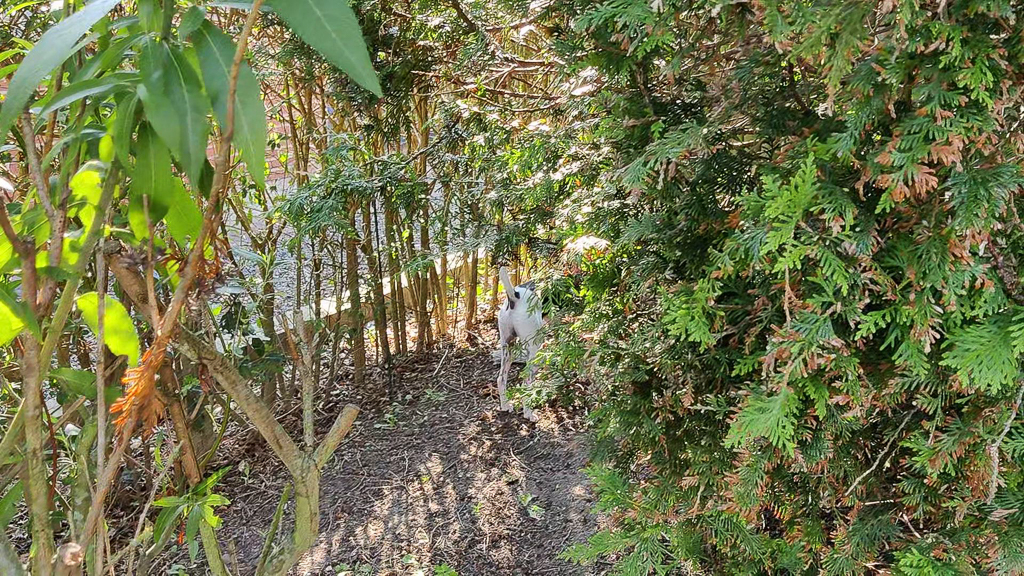Dog: (478, 245, 608, 421)
